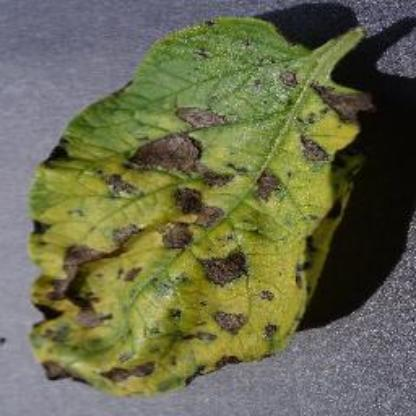Early-Blight: (25, 14, 379, 396)
